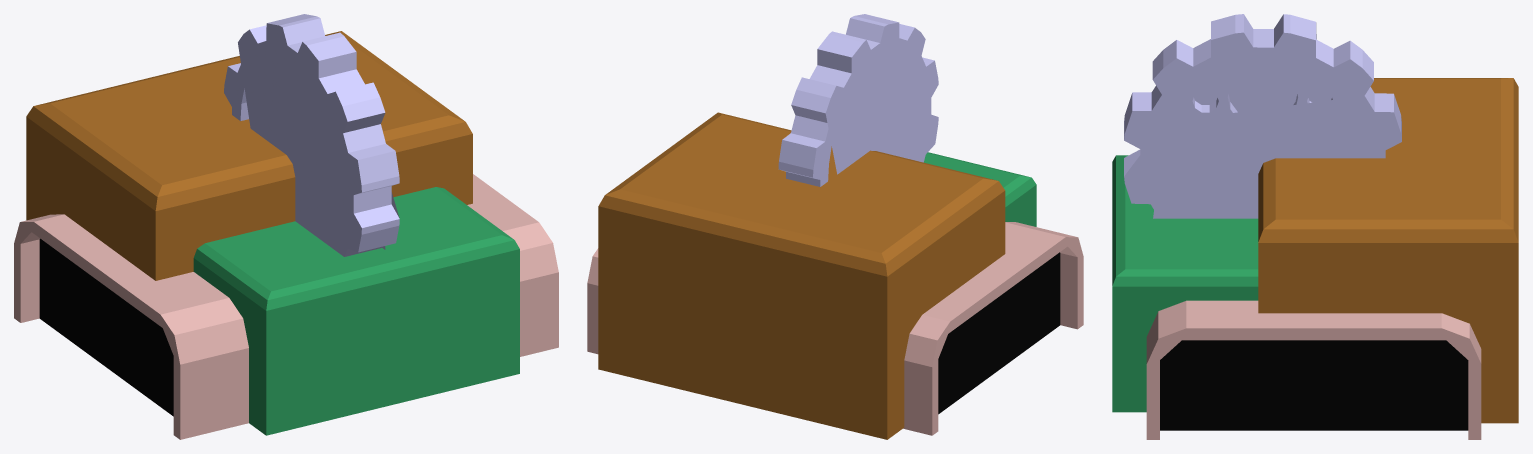
File: Editor_1v1.fbx
3 renders of one model, left to right at view 1: azimuth 30°, elevation 25°; view 2: azimuth 150°, elevation 25°; view 3: azimuth 270°, elevation 25°, orthographic. The views are drawn at different scales.
Parts seen in each view (by area): view 1: Leafy Medium Building, Woody Big Building, Steel Gear Body.001, Building Belt Mouth.002, Black Belt Entrance.002, Building Belt Mouth.003; view 2: Woody Big Building, Steel Gear Body.001, Building Belt Mouth.002, Black Belt Entrance.002, Leafy Medium Building, Building Belt Mouth.003; view 3: Woody Big Building, Steel Gear Body.001, Black Belt Entrance.003, Leafy Medium Building, Building Belt Mouth.003.
Part boxes in pixels (<box>): Leafy Medium Building: <box>193,187,519,435</box>; Woody Big Building: <box>26,31,472,280</box>; Steel Gear Body.001: <box>224,14,399,256</box>; Building Belt Mouth.002: <box>14,214,248,439</box>; Black Belt Entrance.002: <box>39,238,173,416</box>; Building Belt Mouth.003: <box>467,174,558,356</box>; Woody Big Building: <box>598,112,1005,439</box>; Steel Gear Body.001: <box>778,14,938,186</box>; Building Belt Mouth.002: <box>903,222,1083,435</box>; Black Belt Entrance.002: <box>938,252,1060,414</box>; Leafy Medium Building: <box>924,152,1036,226</box>; Building Belt Mouth.003: <box>587,248,598,354</box>; Woody Big Building: <box>1258,78,1518,423</box>; Steel Gear Body.001: <box>1124,14,1401,218</box>; Black Belt Entrance.003: <box>1160,340,1468,430</box>; Leafy Medium Building: <box>1112,155,1258,412</box>; Building Belt Mouth.003: <box>1146,300,1481,439</box>.
Size of the model in its own units: 100 by 81.11 by 92.34.
